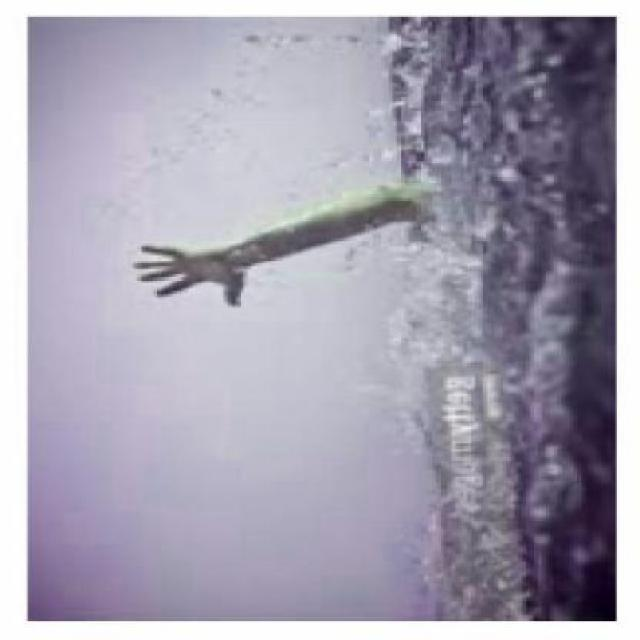drowning: (134, 176, 440, 304)
